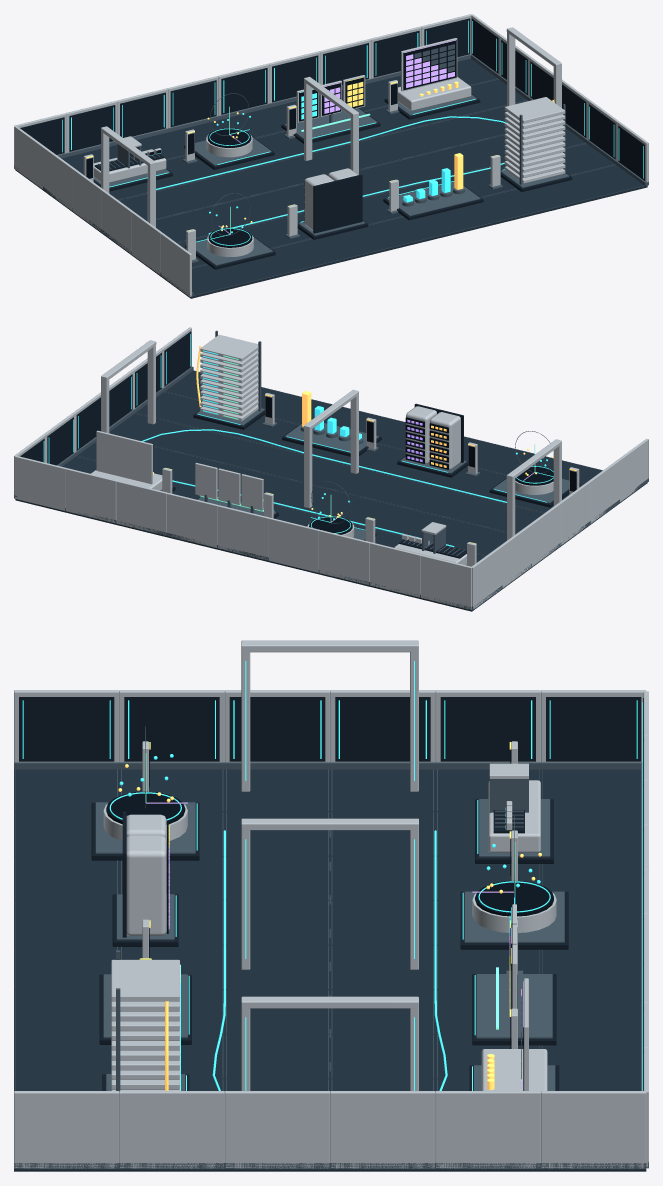
The model's file is lab-assembled.glb.
The picture shows the model from 3 angles, top to bottom: view 1: azimuth 30°, elevation 25°; view 2: azimuth 150°, elevation 25°; view 3: azimuth 270°, elevation 25°; orthographic projection. The views are drawn at different scales.
Visible parts, largest first — view 1: slab (×38), inset (×15), shell (×12), inlay (×4), pillar (×5), back, lintel (×3), desk, top (×2), display, tour_data_spine, body (×2) (+5 smaller); view 2: slab (×28), shell (×15), frame (×4), inset (×5), pillar (×6), lintel (×3), inlay (×2), top (×2), cabinet_amber, tour_data_spine, block, cabinet_violet (+2 smaller); view 3: slab (×46), shell (×12), inset (×6), inlay (×6), lintel (×3), base (×6), pillar (×5), cabinet_violet, skirting (×5), top (×2), block, desk (+5 smaller).
Boxes of the visible parts, left/top/right/bottom form: slab (×38): left=114, top=58, right=647, bottom=298; inset (×15): left=20, top=18, right=644, bottom=180; shell (×12): left=14, top=26, right=421, bottom=296; inlay (×4): left=195, top=108, right=480, bottom=265; pillar (×5): left=101, top=32, right=515, bottom=227; back: left=313, top=174, right=362, bottom=233; lintel (×3): left=101, top=27, right=561, bottom=166; desk: left=398, top=77, right=471, bottom=110; top (×2): left=207, top=128, right=252, bottom=247; display: left=403, top=40, right=456, bottom=90; tour_data_spine: left=156, top=116, right=506, bottom=234; body (×2): left=206, top=134, right=253, bottom=256; slab (×28): left=109, top=370, right=596, bottom=554; shell (×15): left=14, top=438, right=648, bottom=609; frame (×4): left=96, top=430, right=263, bottom=510; inset (×5): left=47, top=331, right=191, bottom=465; pillar (×6): left=101, top=344, right=561, bottom=540; lintel (×3): left=101, top=340, right=561, bottom=479; inlay (×2): left=285, top=423, right=569, bottom=503; top (×2): left=309, top=466, right=553, bottom=534; cabinet_amber: left=430, top=412, right=460, bottom=469; tour_data_spine: left=141, top=429, right=506, bottom=547; block: left=200, top=334, right=258, bottom=361; cabinet_violet: left=406, top=406, right=436, bottom=463; slab (×46): left=14, top=769, right=640, bottom=1091; shell (×12): left=14, top=690, right=646, bottom=1168; inset (×6): left=19, top=697, right=641, bottom=761; inlay (×6): left=95, top=799, right=564, bottom=1038; lintel (×3): left=241, top=640, right=418, bottom=1008; base (×6): left=91, top=799, right=568, bottom=1045; pillar (×5): left=241, top=650, right=418, bottom=1090; cabinet_violet: left=126, top=835, right=166, bottom=935; skirting (×5): left=14, top=762, right=642, bottom=769; top (×2): left=106, top=791, right=553, bottom=916; block: left=111, top=959, right=179, bottom=1001; desk: left=481, top=1049, right=547, bottom=1090.
Bounding box in the file's own units: 36.2 × 6.29 × 24.1.
